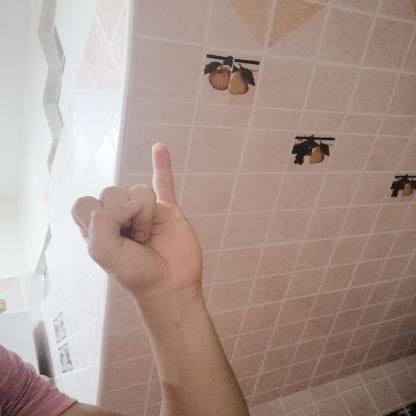MEEM: (53, 133, 217, 303)
